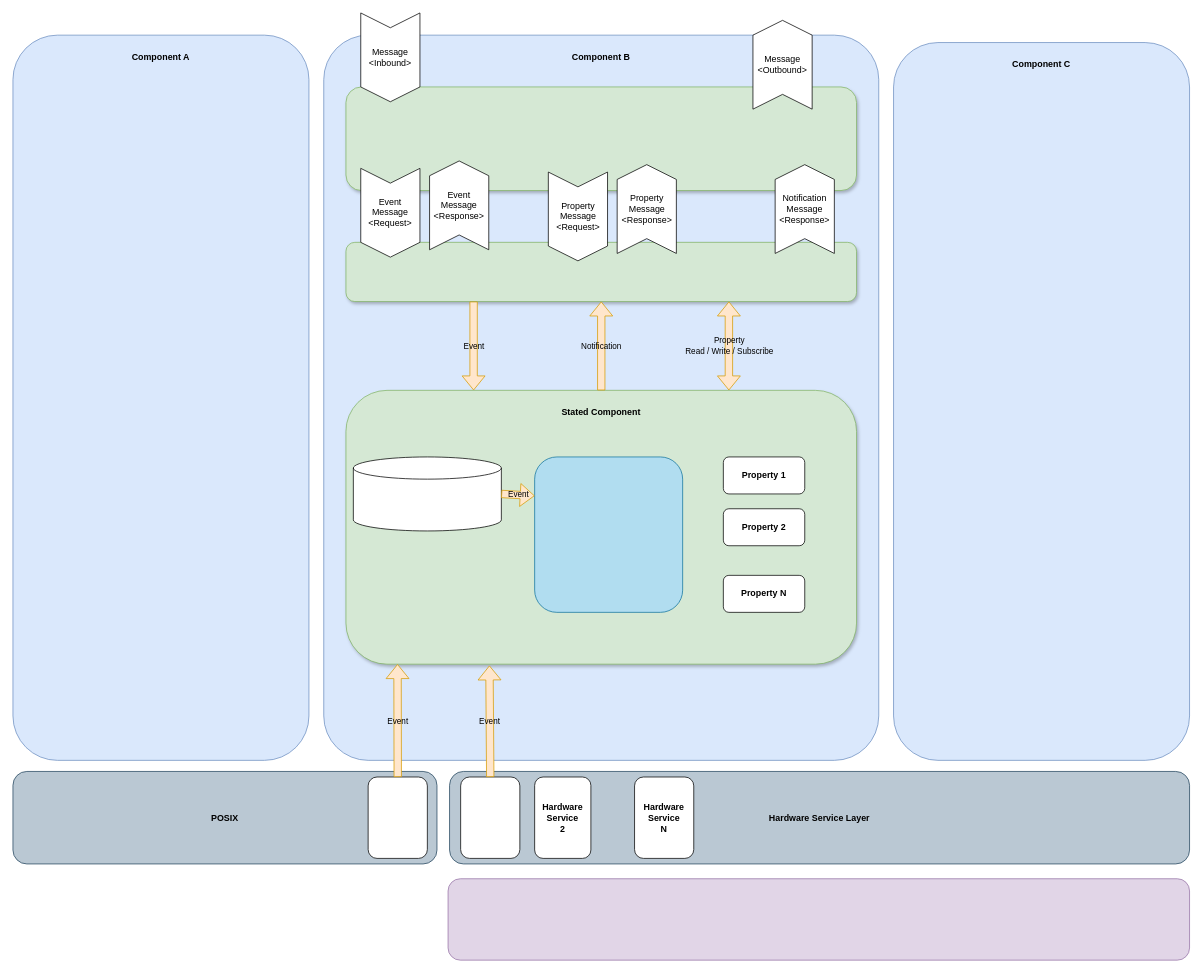
Some shapes in this 1203 by 973 pixel diagram are drawn without their labels. The shapes that lost their labels are listed below. From the top down, each one's centre as x and y in pixels, then its label:
the point at 601,139: Message Broker
the point at 601,273: Message Handler
the point at 427,493: Event Queue
the point at 608,534: Finite State Machine
the point at 397,817: Timer
the point at 490,817: Hardware Service 1
the point at 818,919: Hardware Abstraction Layer
